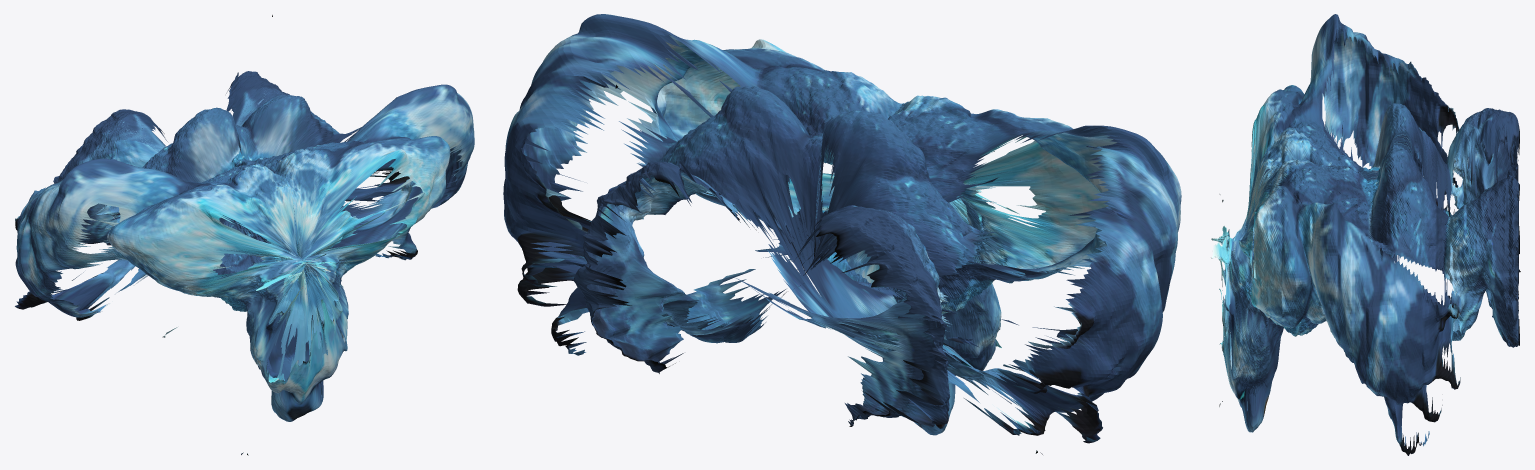
The picture shows the model from 3 angles, left to right: view 1: azimuth 30°, elevation 25°; view 2: azimuth 150°, elevation 25°; view 3: azimuth 270°, elevation 25°; orthographic projection. The views are drawn at different scales.
Parts seen in each view (by area): view 1: geometry_0; view 2: geometry_0; view 3: geometry_0.
Part boxes in pixels (x1,y1,x2,y2): geometry_0: (15, 15, 474, 455); geometry_0: (503, 14, 1181, 454); geometry_0: (1210, 14, 1520, 455).
Size of the model in its own units: 1.98 by 1.32 by 1.04.
1 material, 1 textured.
